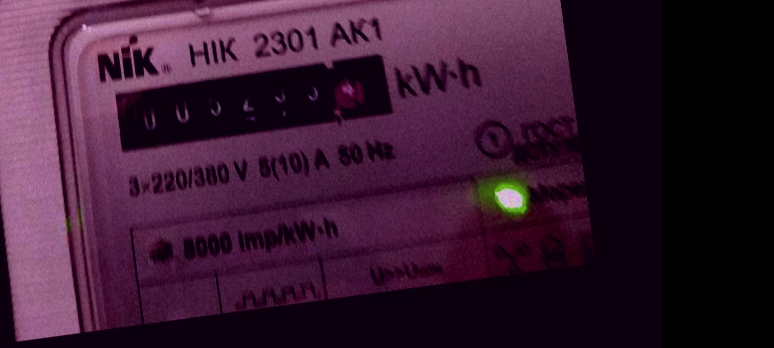0: (169, 92, 193, 127), (138, 101, 160, 134)
2: (234, 80, 259, 117)
3: (265, 73, 294, 109)
4: (334, 64, 360, 103)
5: (299, 68, 326, 107), (202, 86, 226, 121)
screen: (95, 39, 406, 166)
